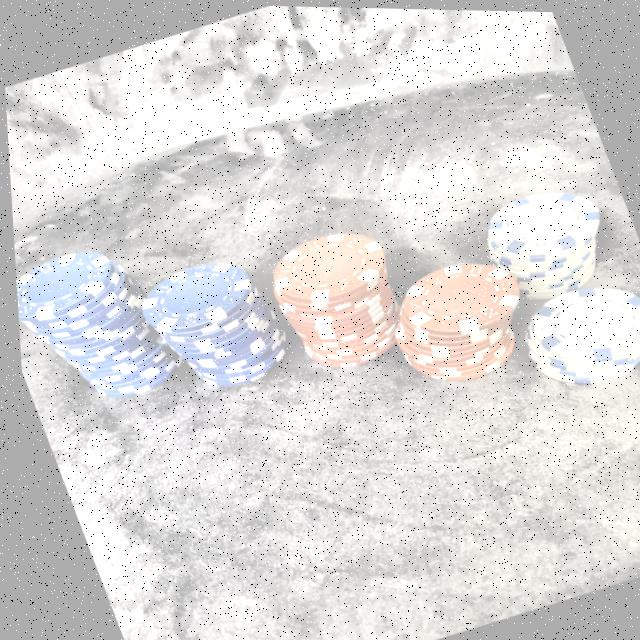Chip: (242, 193, 425, 399), (10, 213, 183, 427), (358, 225, 548, 408), (121, 235, 298, 414), (450, 158, 624, 326), (486, 249, 640, 419)
